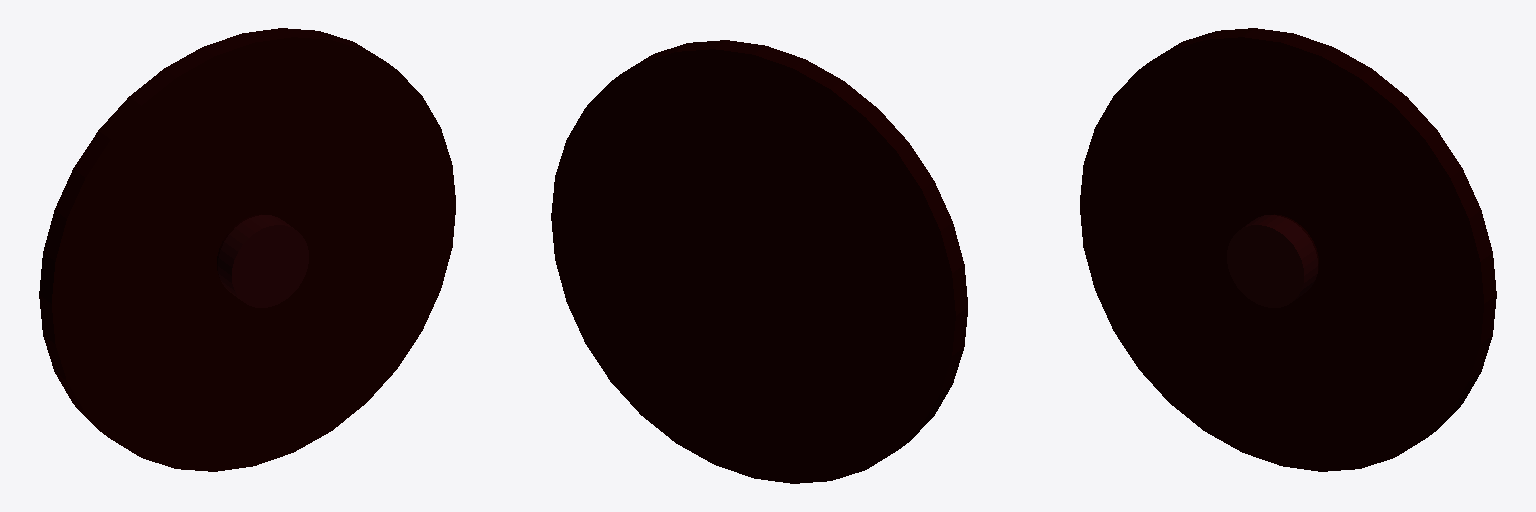
Rendered from WagonWheel.obj.
3 views of the same model, side by side, from view 1: azimuth 30°, elevation 25°; view 2: azimuth 150°, elevation 25°; view 3: azimuth 330°, elevation 25° (orthographic).
Parts seen in each view (by area): view 1: Cylinder, Cylinder.003; view 2: Cylinder; view 3: Cylinder, Cylinder.003.
Boxes of the visible parts, <box> form: Cylinder: <box>39,28,455,471</box>; Cylinder.003: <box>218,215,308,307</box>; Cylinder: <box>551,40,967,483</box>; Cylinder: <box>1080,28,1496,471</box>; Cylinder.003: <box>1227,215,1317,307</box>.
Size of the model in its own units: 2.63 by 2.63 by 0.3248.